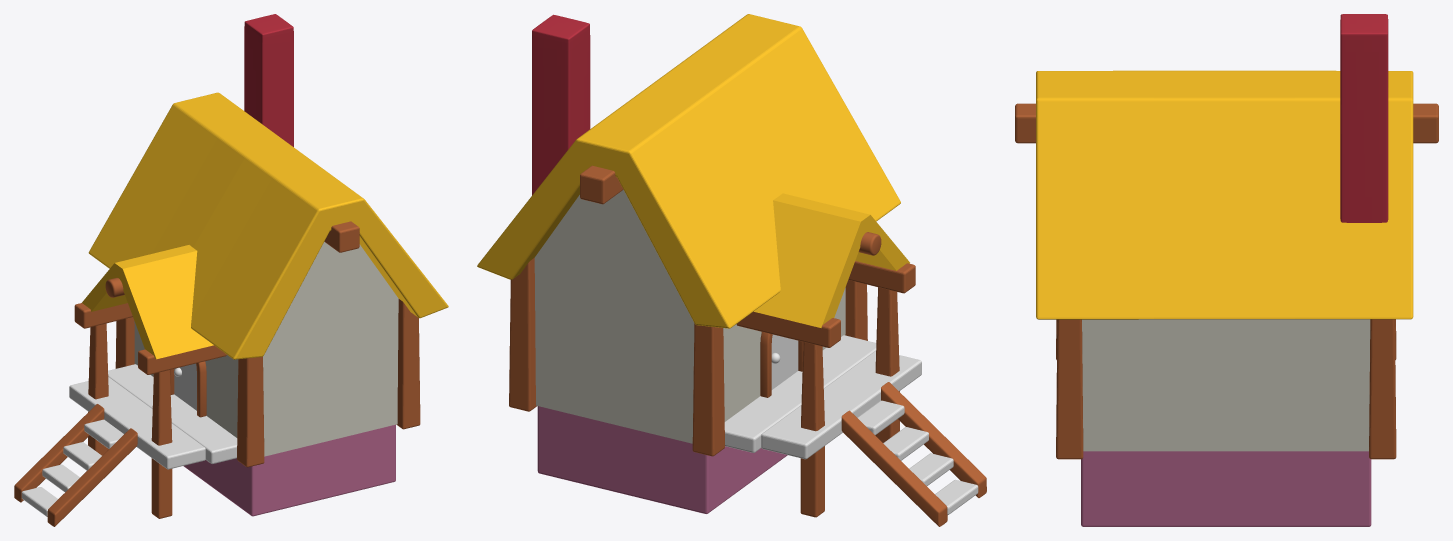
File: trihouse.fbx
3 renders of one model, left to right at view 1: azimuth 30°, elevation 25°; view 2: azimuth 150°, elevation 25°; view 3: azimuth 270°, elevation 25°, orthographic. The views are drawn at different scales.
Visible parts, largest first — view 1: Cube.028, Cube.027, Cube.074, Cube.079, Cube.070, Cube.083, Cube.073, Cube.082, Cube.072, Cube.077, Cube.081, Cube.078 (+4 smaller); view 2: Cube.028, Cube.027, Cube.074, Cube.079, Cube.070, Cube.083, Cube.073, Cube.082, Cube.072, Cube.077, Cube.081, Cube.078 (+4 smaller); view 3: Cube.028, Cube.027, Cube.074, Cube.083, Cube.070, Cube.075.
Part boxes in pixels (x1,y1,x2,y2): Cube.028: (88, 92, 448, 359); Cube.027: (134, 242, 398, 456); Cube.074: (183, 424, 395, 516); Cube.079: (82, 245, 213, 359); Cube.070: (115, 299, 420, 467); Cube.083: (244, 14, 293, 146); Cube.073: (69, 377, 205, 469); Cube.082: (14, 404, 137, 526); Cube.072: (108, 364, 237, 463); Cube.077: (88, 323, 172, 445); Cube.081: (21, 419, 123, 516); Cube.078: (74, 303, 226, 374); Cube.028: (477, 14, 900, 328); Cube.027: (534, 190, 845, 443); Cube.074: (537, 406, 787, 513); Cube.079: (754, 193, 909, 327); Cube.070: (509, 258, 867, 456); Cube.083: (532, 14, 590, 195); Cube.073: (761, 350, 921, 459); Cube.082: (841, 382, 986, 526); Cube.072: (724, 335, 876, 452); Cube.077: (801, 287, 899, 431); Cube.081: (857, 400, 978, 514); Cube.078: (736, 261, 915, 347); Cube.028: (1036, 70, 1413, 319); Cube.027: (1082, 319, 1370, 451); Cube.074: (1081, 451, 1371, 526); Cube.083: (1340, 14, 1388, 222); Cube.070: (1056, 319, 1396, 459); Cube.075: (1015, 103, 1438, 143).
Size of the model in its own units: 301 by 321 by 250.
